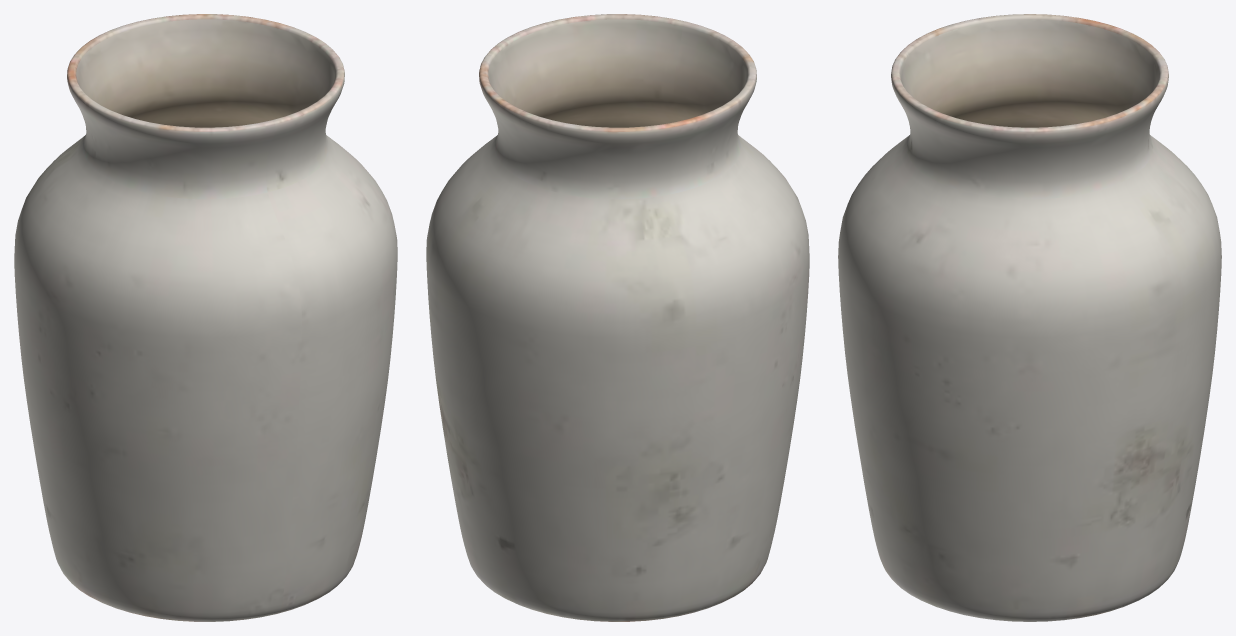
The model's file is ceramic_vase_02.glb.
3 views of the same model, side by side, from view 1: azimuth 30°, elevation 25°; view 2: azimuth 150°, elevation 25°; view 3: azimuth 270°, elevation 25° (orthographic).
Parts seen in each view (by area): view 1: ceramic_vase_02; view 2: ceramic_vase_02; view 3: ceramic_vase_02.
Part boxes in pixels (x1,y1,x2,y2): ceramic_vase_02: (14, 14, 397, 621); ceramic_vase_02: (426, 14, 809, 621); ceramic_vase_02: (838, 14, 1221, 621).
Size of the model in its own units: 0.2184 by 0.3092 by 0.2184.
1 material, 1 textured.
